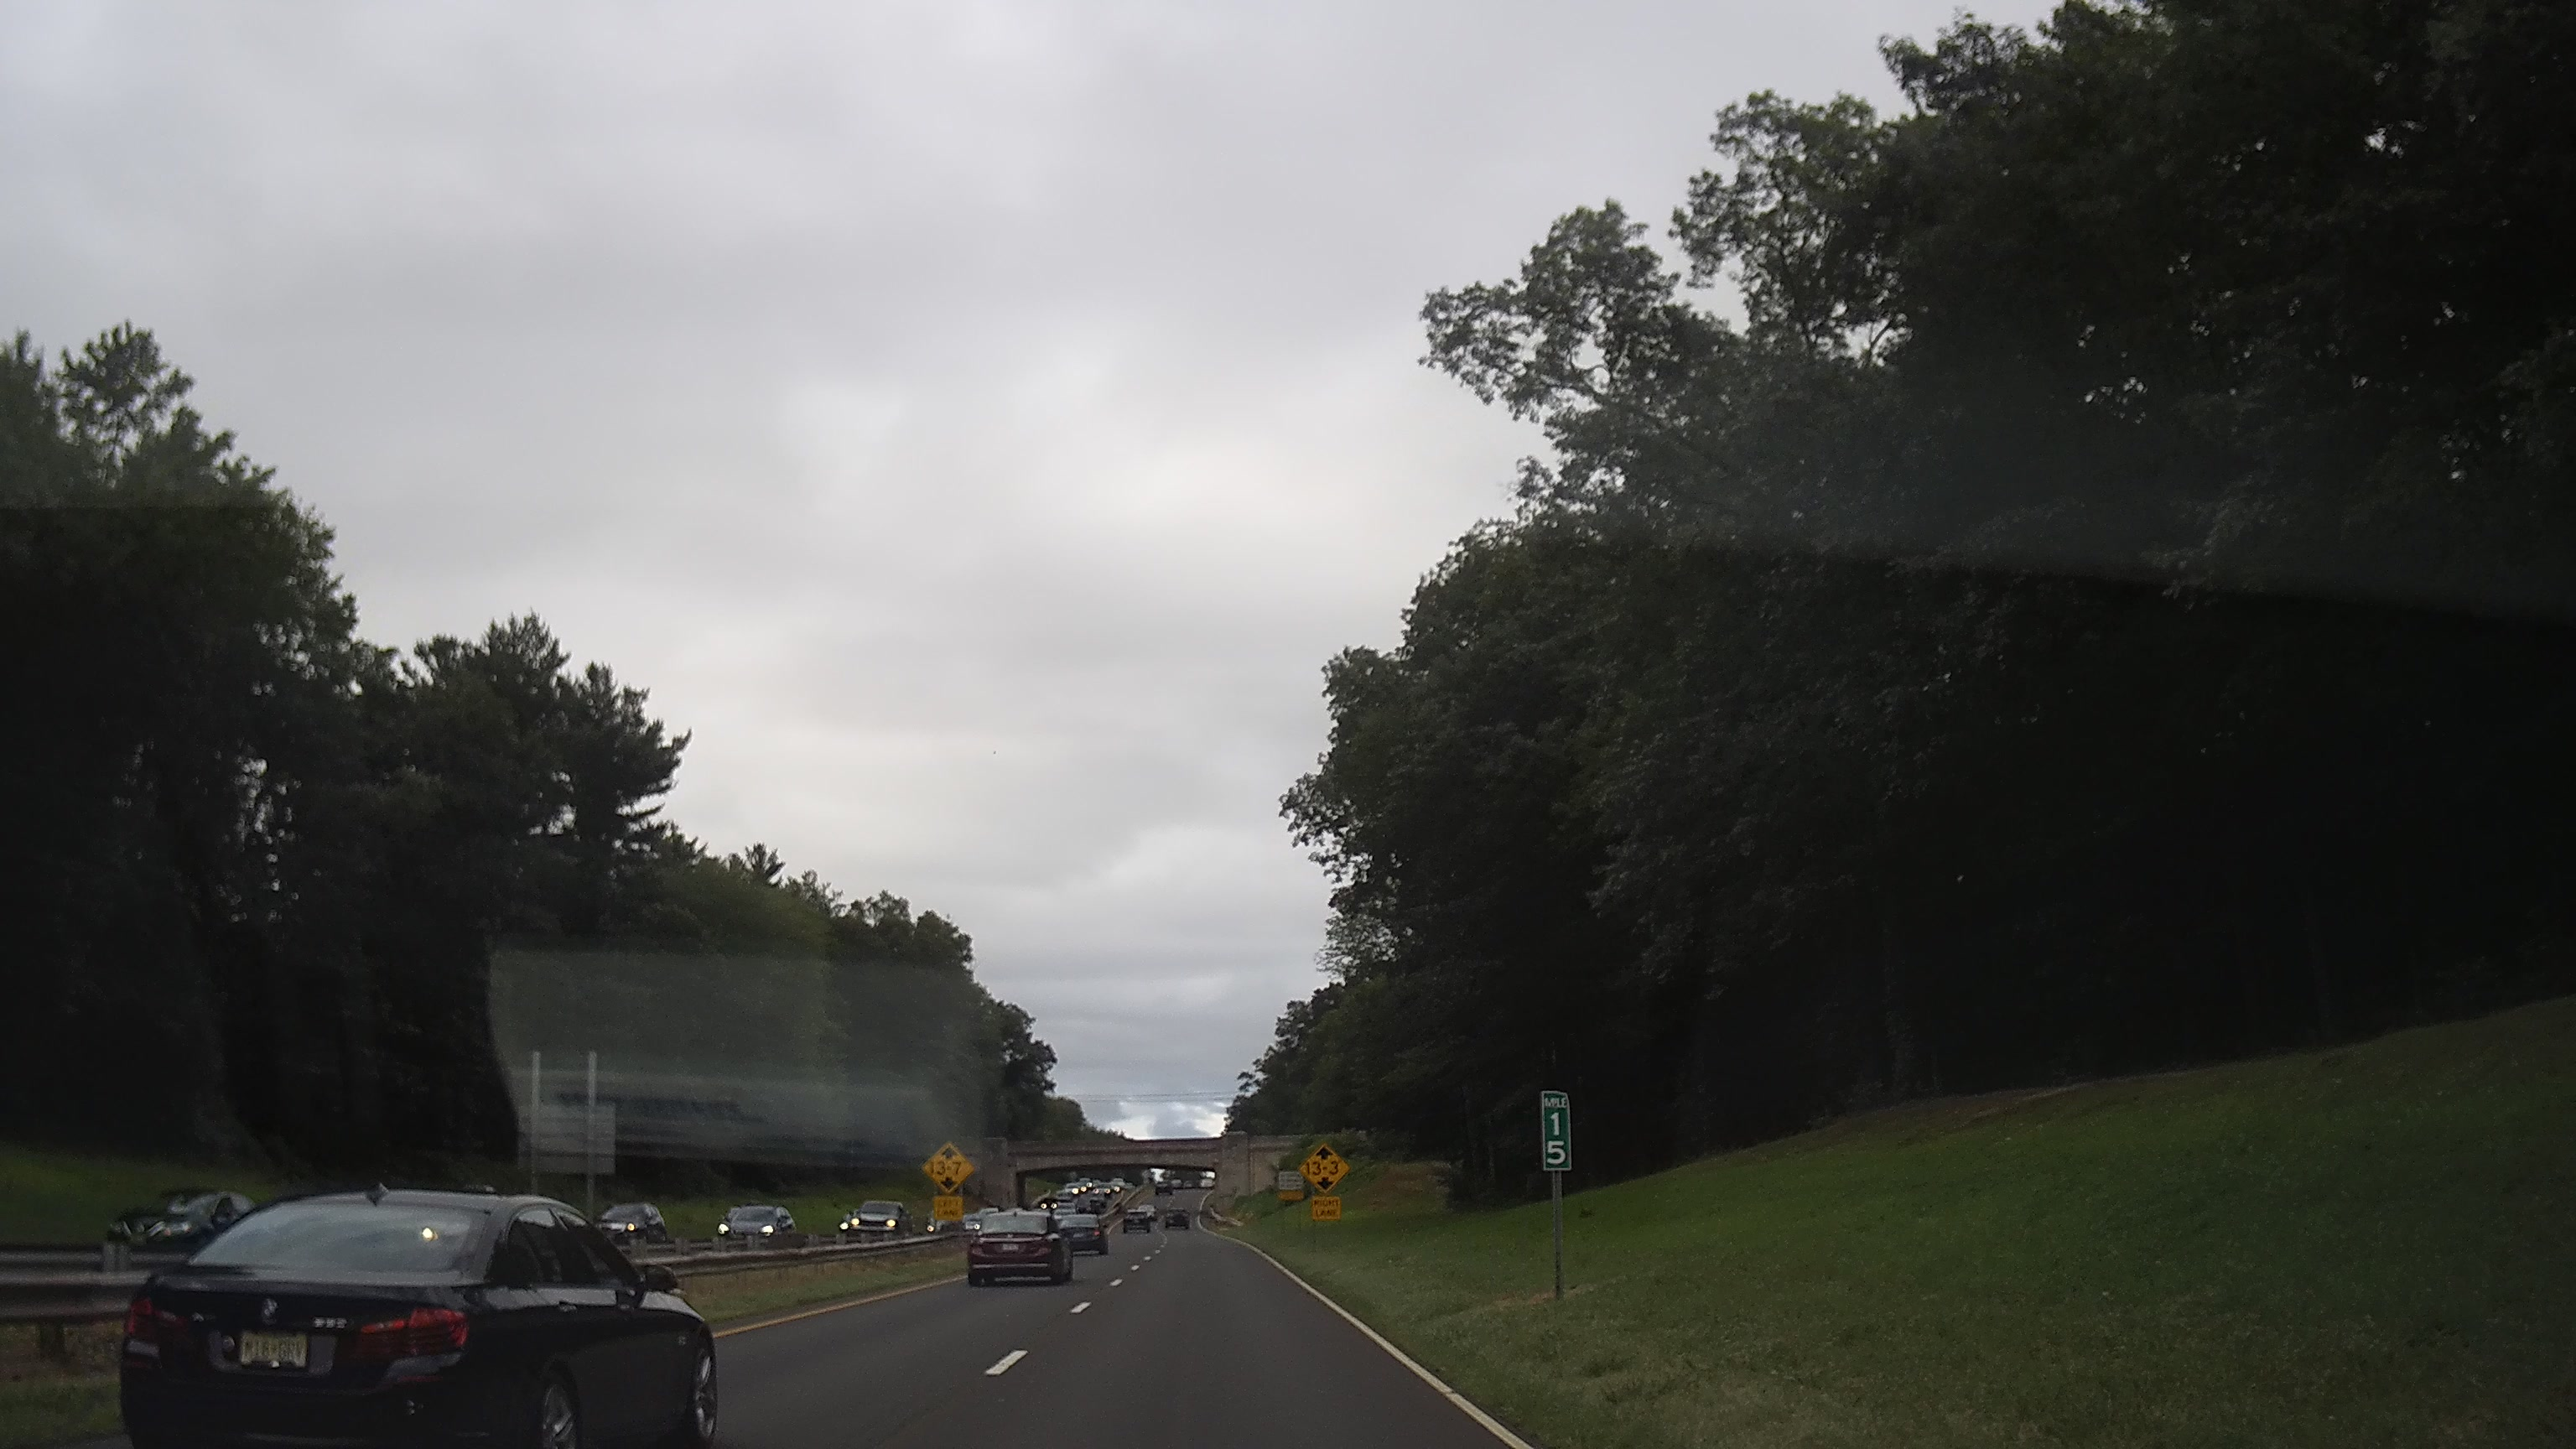low-clearance-sign: (918, 1139, 977, 1196), (1297, 1141, 1352, 1194)
